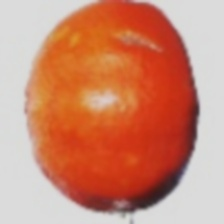tangerine: (28, 28, 175, 185)
